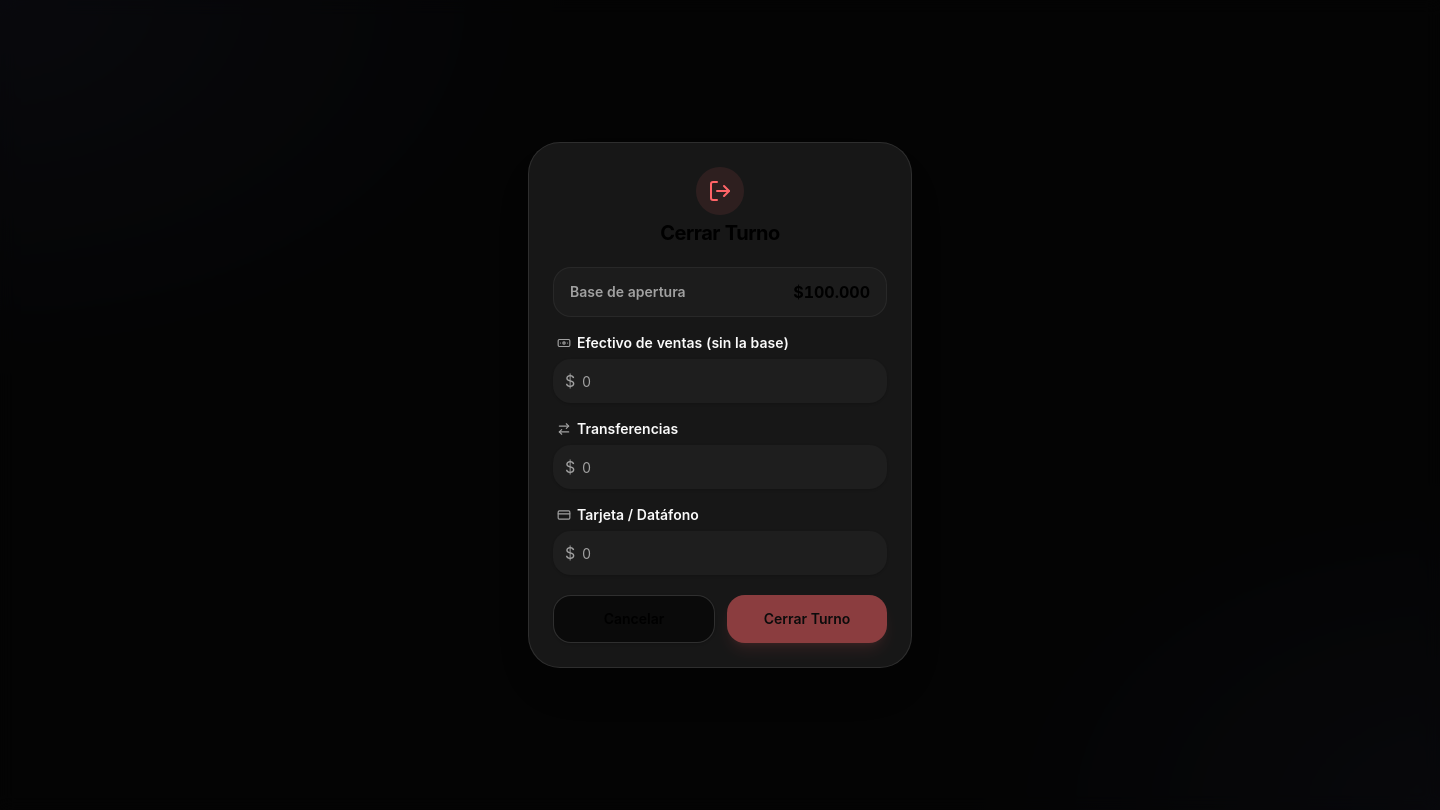
Scenario: ShiftClosingModal — form stage › shows the server error when the preview fails
This screenshot has width=1440, height=810.
Type "100" into the field labelled "Efectivo de ventas (sin la base)".
click(720, 381); type("100")  # box [553,359,887,403]
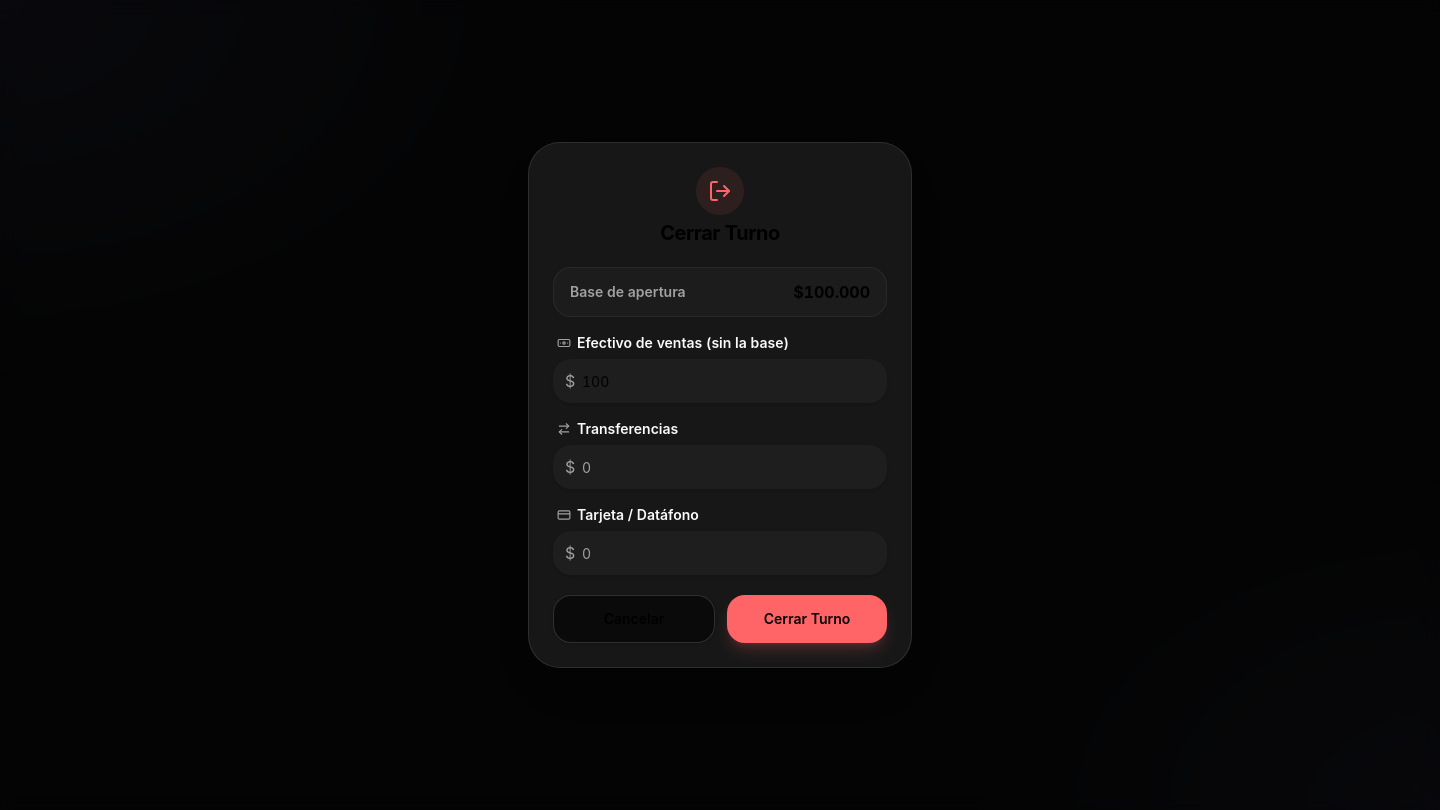
Click the button "Cerrar Turno".
click(807, 619)  # box [727,595,887,643]
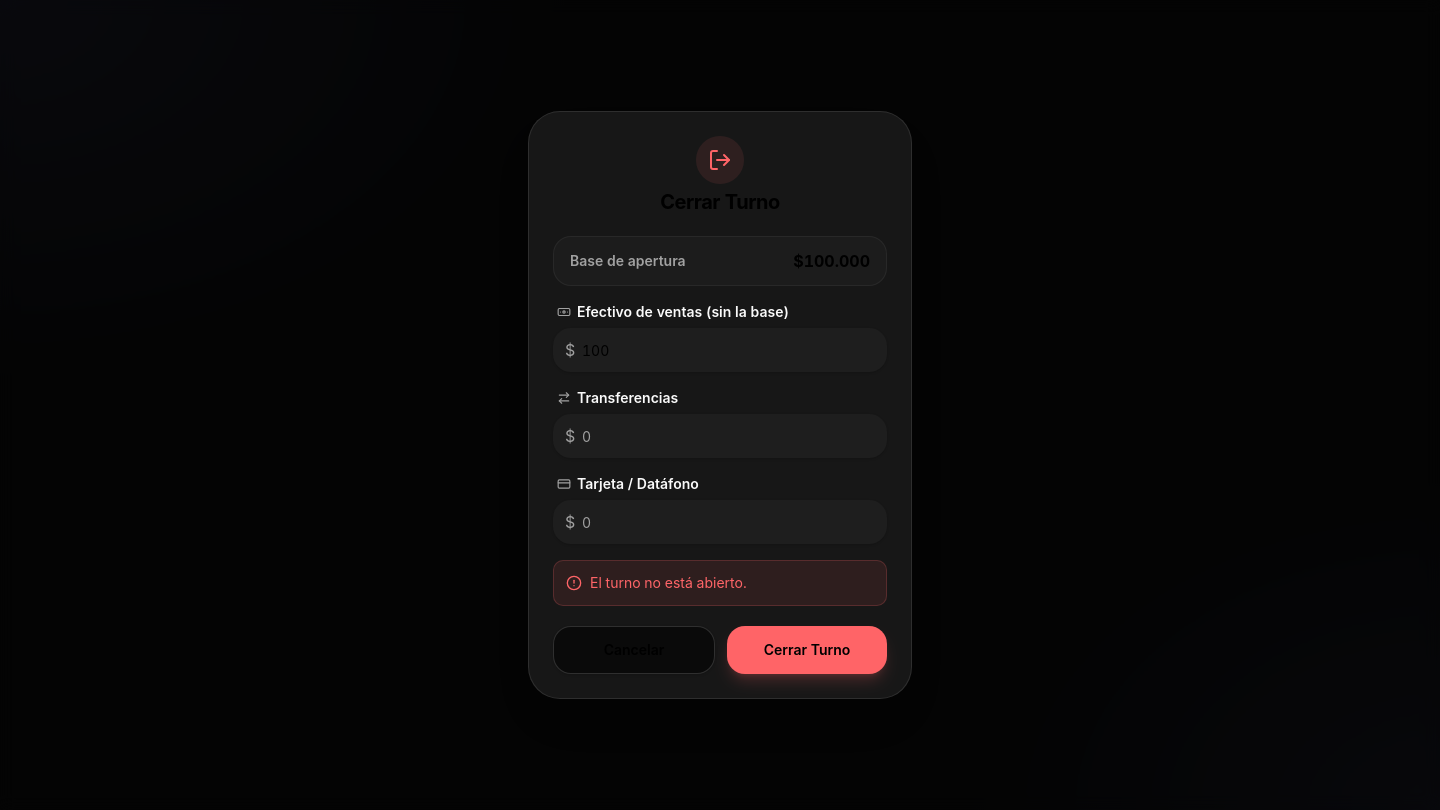
Expected: the text "El turno no está abierto." is shown, [590,573,747,593]
